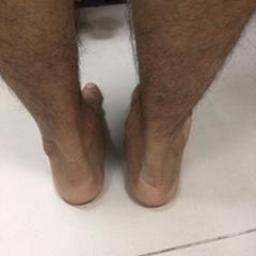Back View -Both Feet-: (8, 57, 226, 224)
